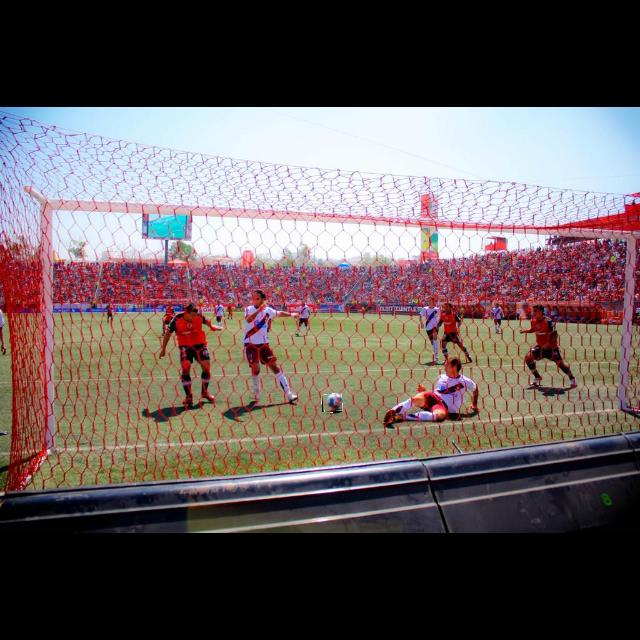Football: (322, 394, 342, 412)
